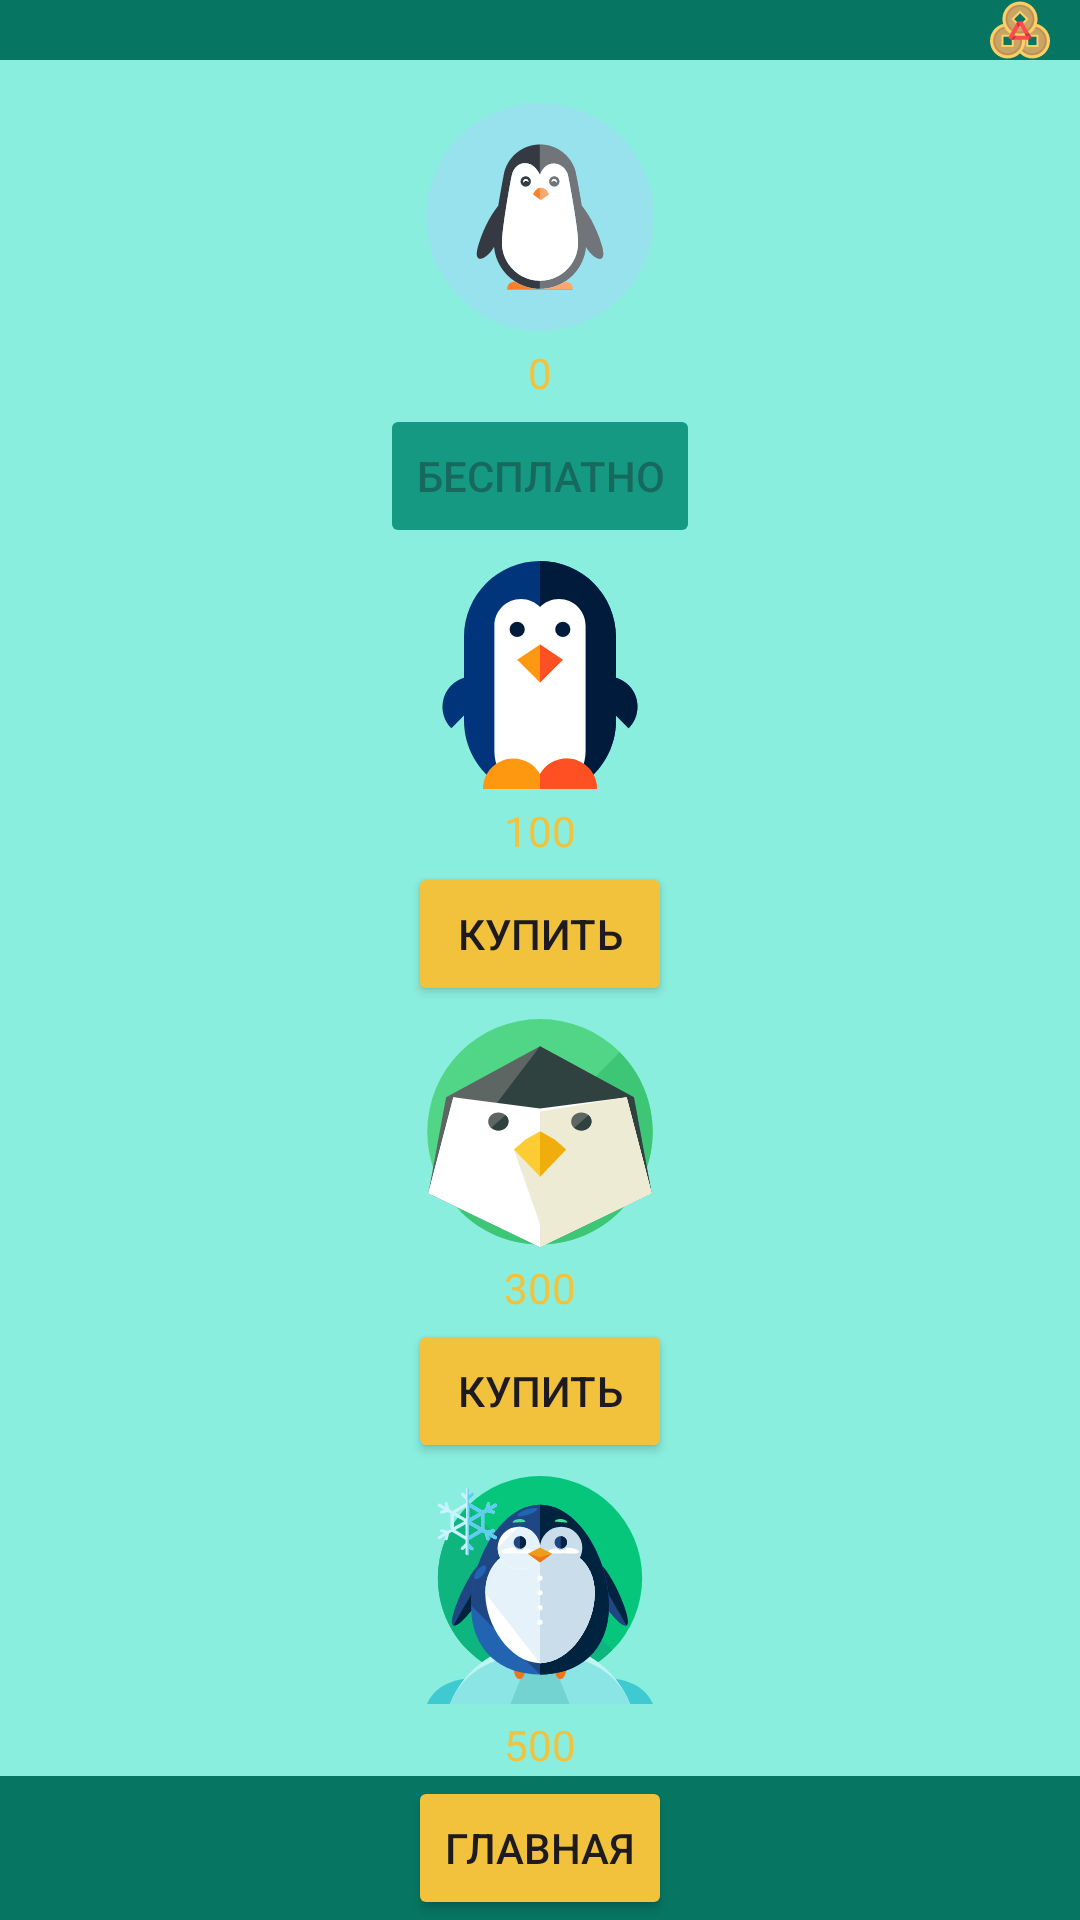

Icons on this 1080×1920 Android screen, each with the point to tap as [x,y]:
coin chinese: [1020,30]
penguin: [540,217], [540,675], [540,1133], [540,1590]
